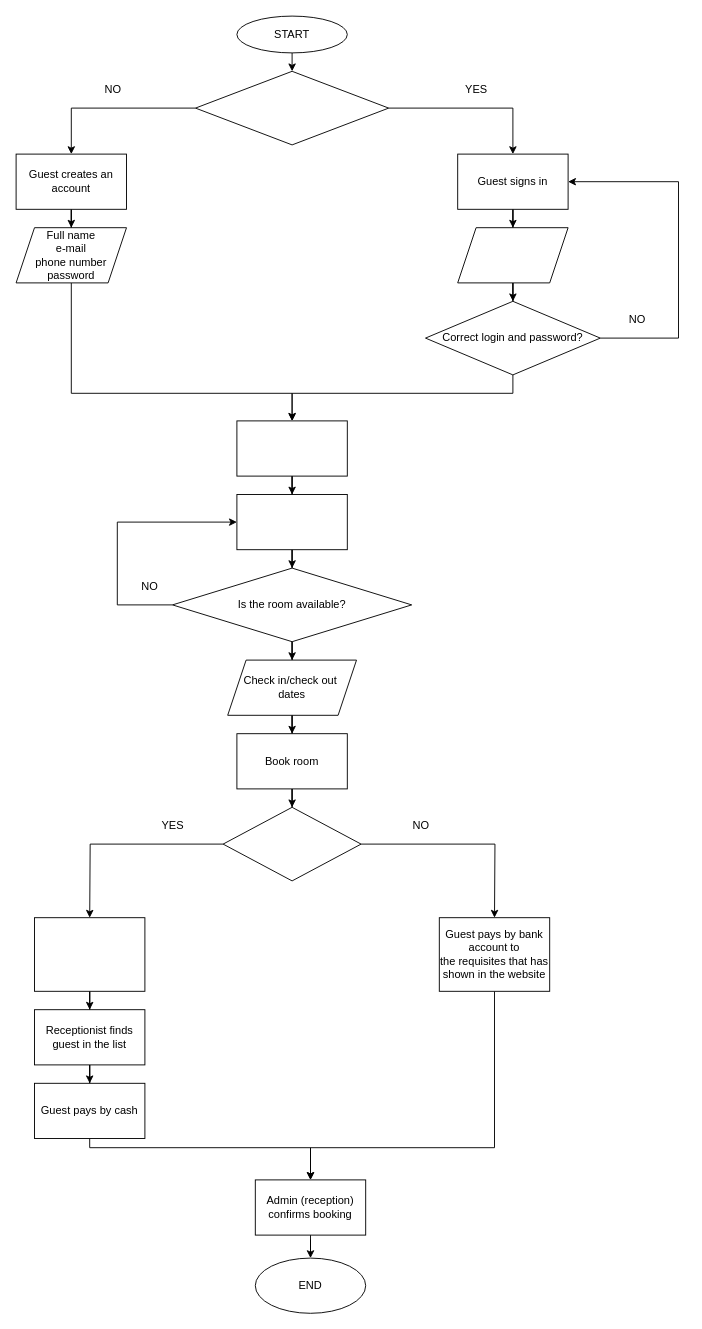
This 702x1329 diagram has some shape labels left out. Each missing label, with the box of its shape:
Cash payment?: (222, 806, 361, 881)
Does the guest has an account?: (195, 70, 389, 145)
Guest come to the hotel: (34, 917, 145, 991)
Login: (236, 420, 347, 476)
Login password: (457, 227, 568, 283)
Search rooms: (236, 494, 347, 550)
